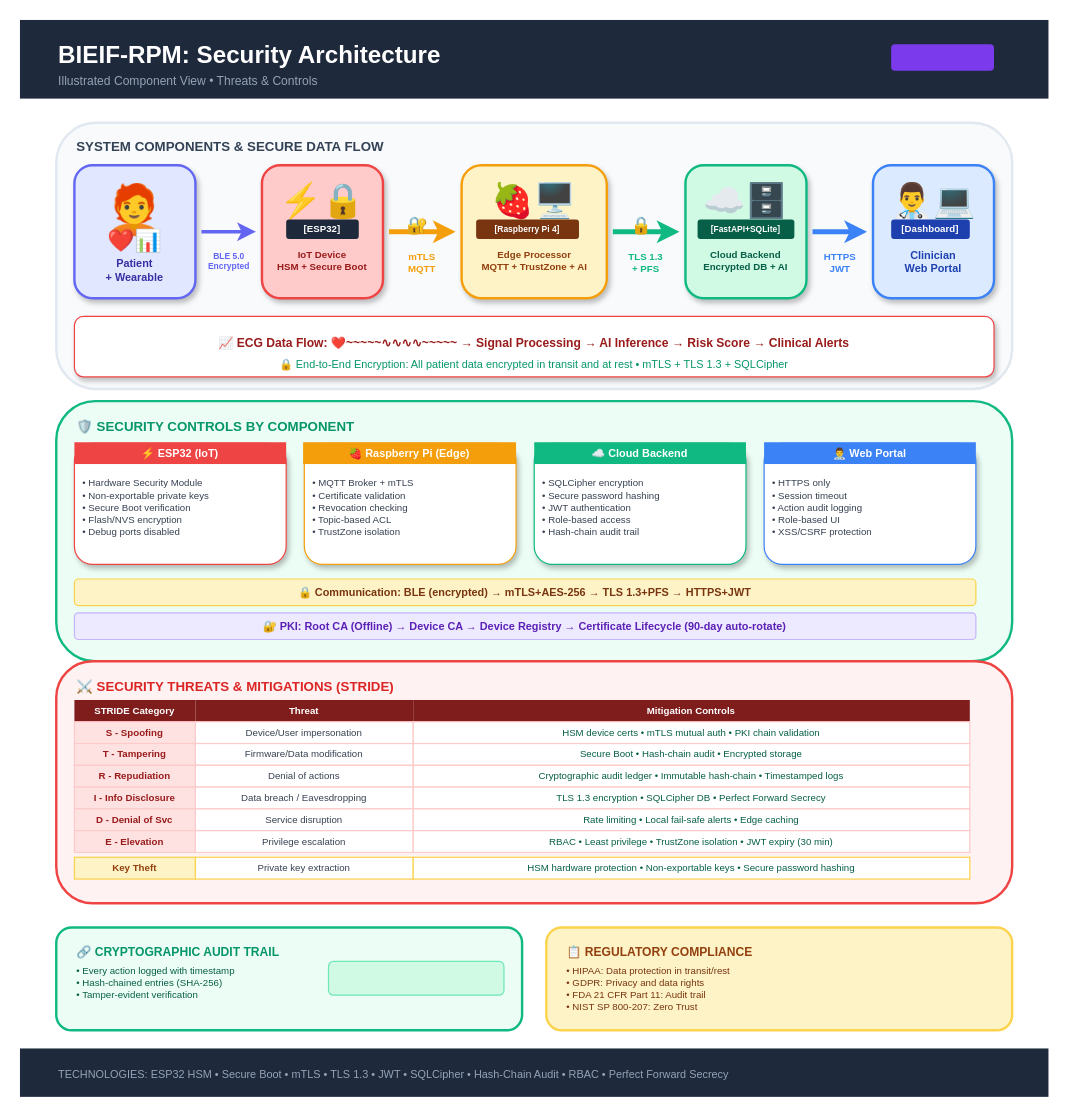
The diagram is 1068 pixels wide and 1117 high, and some of its shapes have lost their labels. The centre of each missing label's shape, as x and y in pixels:
[Genesis]→[Login]→[Ingest]→[View]→✓: (415,977)
ZERO TRUST: (942,57)
